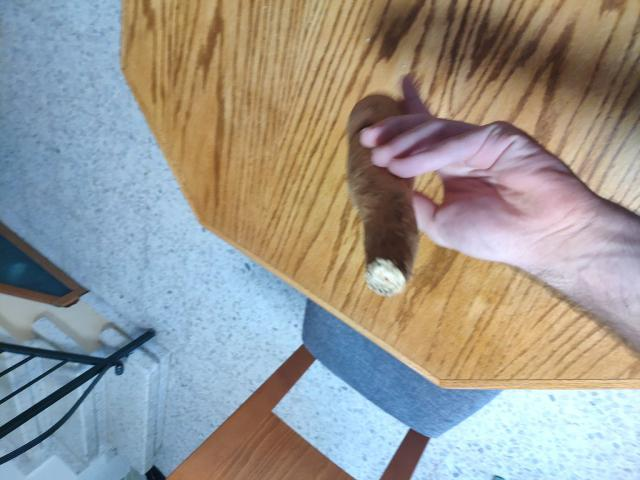sweet_potato: (336, 110, 430, 279)
